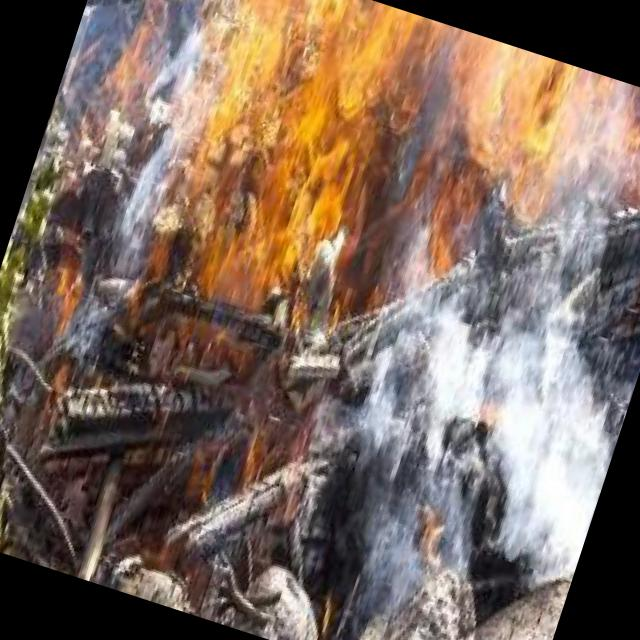fire: (124, 0, 473, 350), (415, 33, 640, 291)
smoke: (277, 209, 640, 640)
